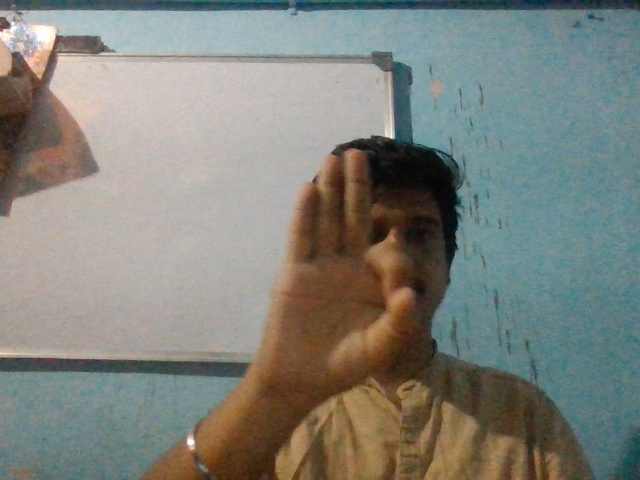Chin: (272, 136, 424, 402)
